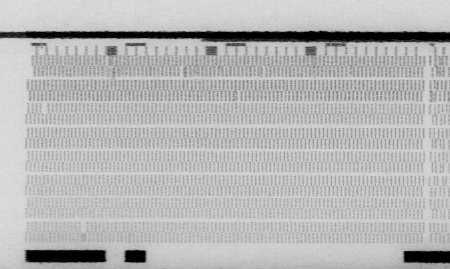Broken hole: (24, 54, 37, 77), (39, 101, 50, 114), (78, 220, 89, 233)
Oblique printing: (430, 55, 450, 105), (434, 137, 450, 187), (102, 55, 120, 81), (257, 65, 270, 78), (177, 65, 189, 77), (233, 92, 244, 102)
